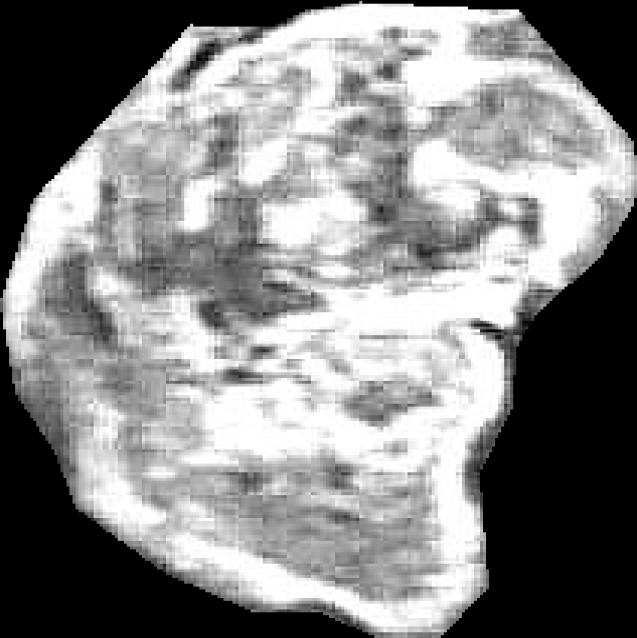tumor_moderate_chance: (0, 1, 637, 638)
